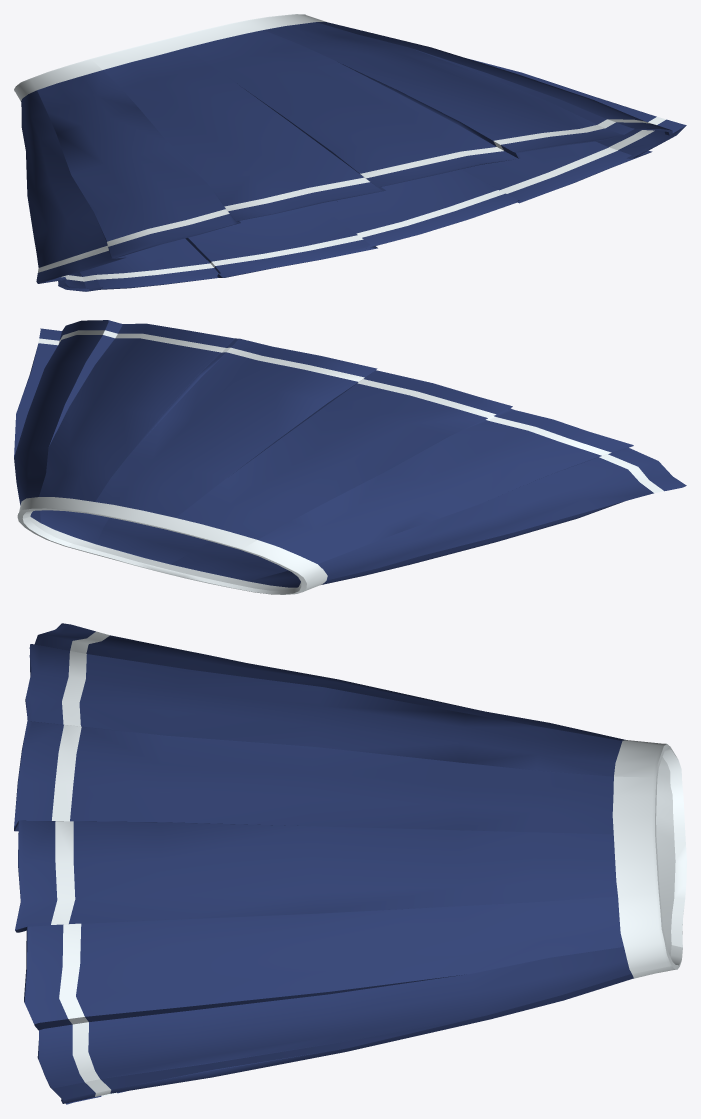
Rendered from I401SailorSkirt_Ground.FBX.
3 views of the same model, one above another, from view 1: azimuth 30°, elevation 25°; view 2: azimuth 150°, elevation 25°; view 3: azimuth 270°, elevation 25° (orthographic). The views are drawn at different scales.
Parts seen in each view (by area): view 1: 对象004; view 2: 对象004; view 3: 对象004.
Part boxes in pixels (left/top/right/bottom): 对象004: left=14, top=14, right=686, bottom=291; 对象004: left=14, top=320, right=686, bottom=594; 对象004: left=14, top=623, right=686, bottom=1104.
Bounding box in the file's own units: 2.91 × 0.2762 × 1.74.
